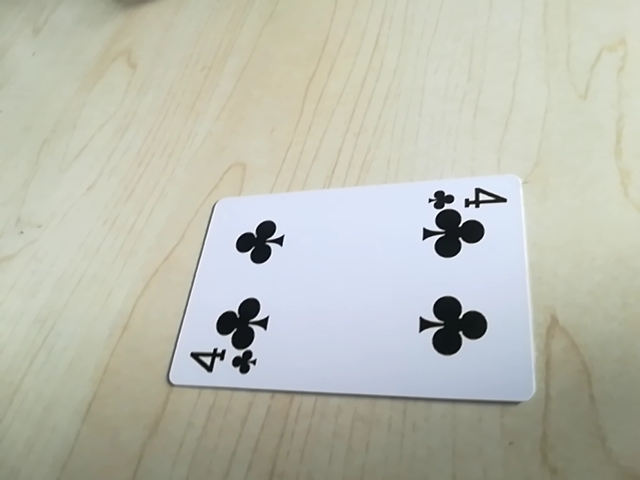mh 4: (183, 345, 262, 383), (424, 183, 509, 214)
